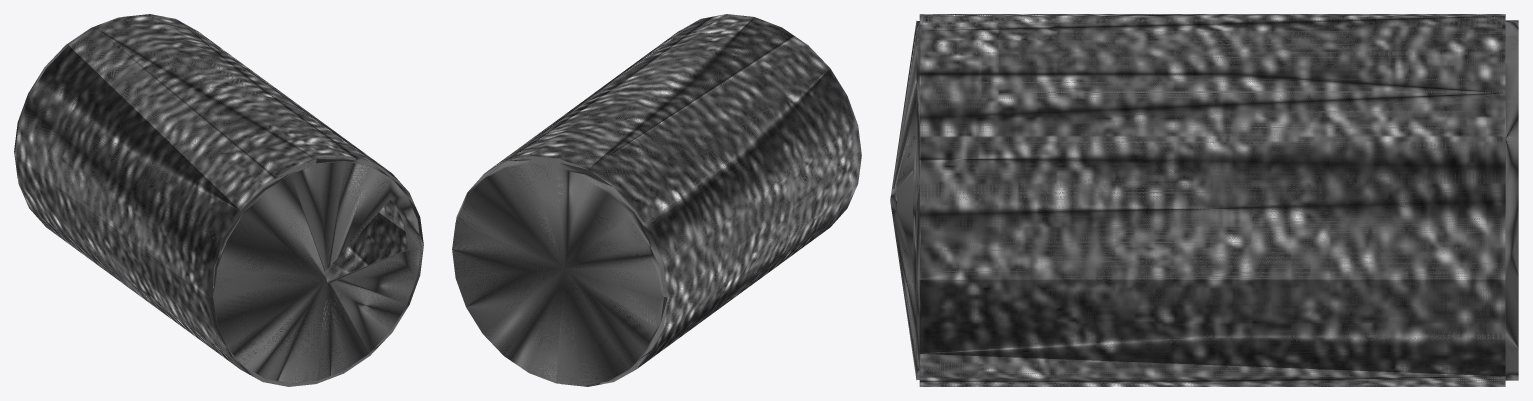
Rendered from model_align.obj.
The picture shows the model from 3 angles, left to right: view 1: azimuth 30°, elevation 25°; view 2: azimuth 150°, elevation 25°; view 3: azimuth 270°, elevation 25°; orthographic projection. The views are drawn at different scales.
Size of the model in its own units: 0.0754 by 0.0754 by 0.1266.
